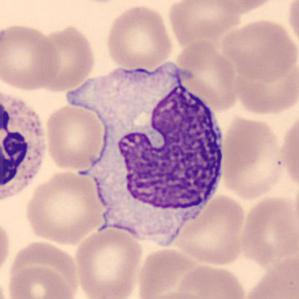Monocyte: (82, 56, 230, 256), (12, 236, 80, 298)
Neutrophil: (0, 80, 51, 210)
RBC: (22, 169, 110, 246), (218, 112, 288, 202), (171, 192, 249, 267), (71, 224, 144, 299), (218, 16, 298, 82), (173, 38, 241, 113), (103, 2, 175, 71), (238, 193, 298, 267), (229, 54, 298, 118), (36, 22, 98, 92), (44, 102, 106, 172), (0, 22, 62, 92), (135, 245, 207, 298), (165, 0, 242, 45), (173, 261, 248, 299), (240, 253, 299, 299), (5, 263, 75, 299), (277, 109, 299, 194), (209, 0, 279, 15), (138, 288, 213, 299), (0, 216, 12, 280), (285, 0, 299, 50)
